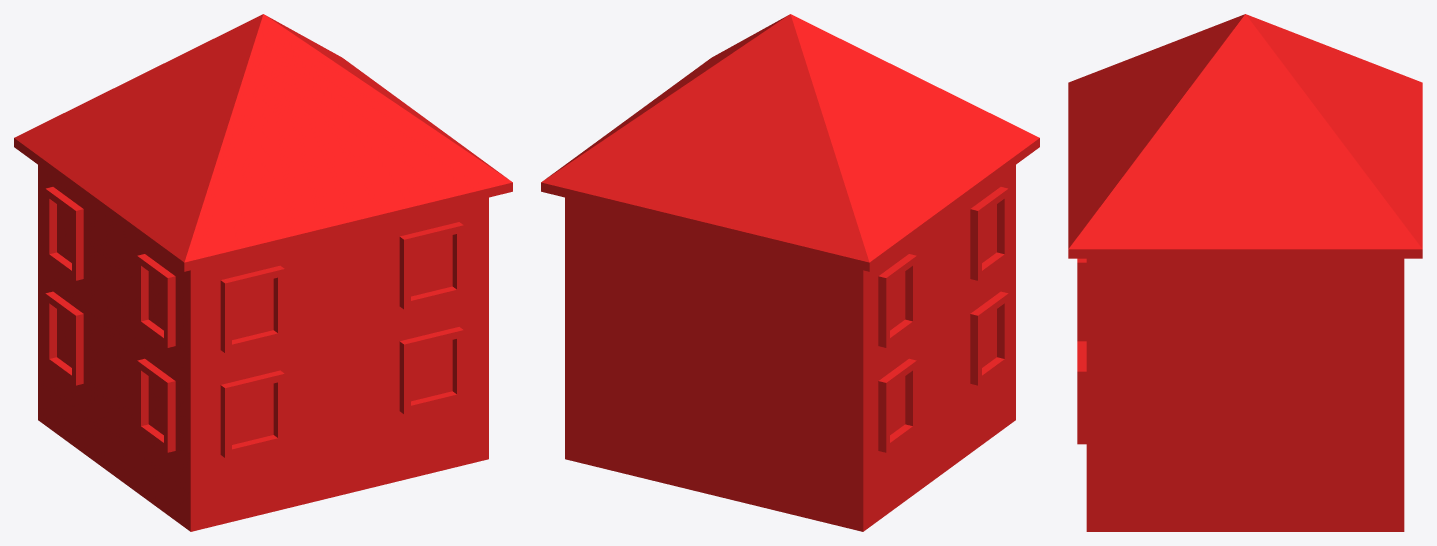
Rendered from VGA223_Kiriakidis_Alexandros_House.FBX.
3 views of the same model, side by side, from view 1: azimuth 30°, elevation 25°; view 2: azimuth 150°, elevation 25°; view 3: azimuth 270°, elevation 25° (orthographic). The views are drawn at different scales.
Visible parts, largest first — view 1: Box020; view 2: Box020; view 3: Box020.
Part boxes in pixels (x1=…): Box020: x1=14, y1=14, x2=512, y2=531; Box020: x1=541, y1=14, x2=1039, y2=531; Box020: x1=1068, y1=14, x2=1422, y2=531.
Size of the model in its own units: 2719 by 3366 by 2442.
